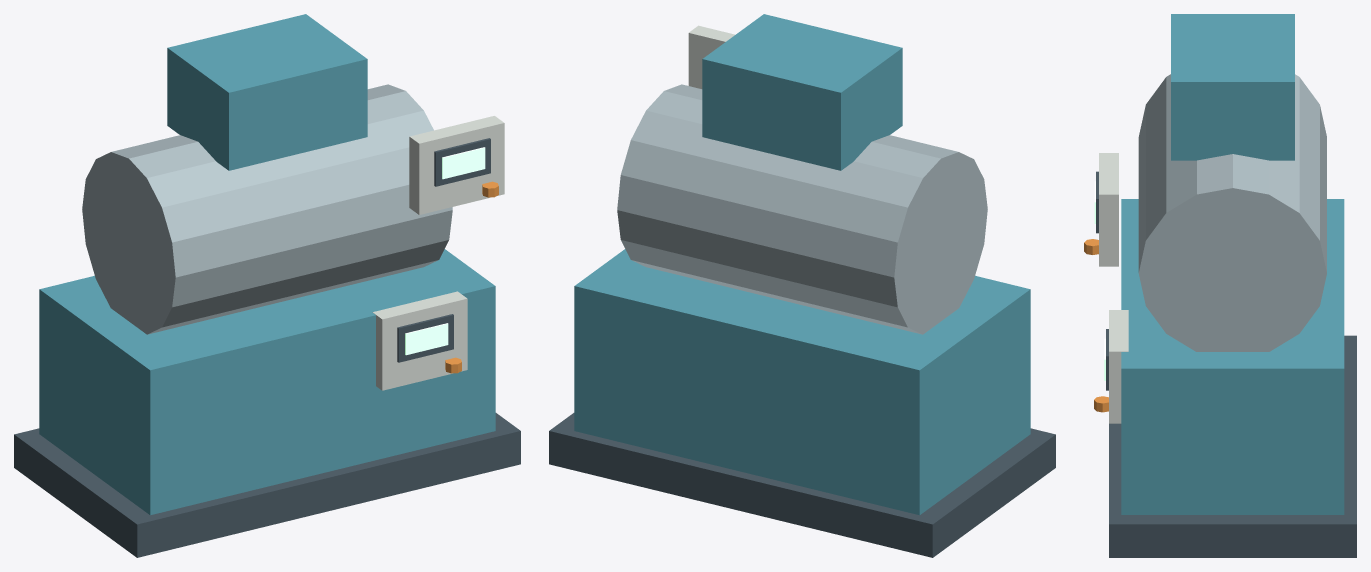
Rendered from air-compressor-skid.glb.
3 renders of one model, left to right at view 1: azimuth 30°, elevation 25°; view 2: azimuth 150°, elevation 25°; view 3: azimuth 270°, elevation 25°, orthographic.
Visible parts, largest first — view 1: blue, steel, dark, cream, light; view 2: blue, steel, dark, cream; view 3: blue, steel, dark, cream, orange.
Part boxes in pixels (x1,y1,x2,y2): blue: [39, 14, 495, 515]; steel: [82, 84, 452, 334]; dark: [14, 138, 520, 557]; cream: [372, 116, 504, 390]; light: [405, 147, 485, 355]; blue: [574, 14, 1030, 515]; steel: [617, 84, 987, 334]; dark: [549, 413, 1055, 557]; cream: [688, 25, 735, 88]; blue: [1121, 14, 1344, 514]; steel: [1138, 74, 1326, 351]; dark: [1096, 171, 1356, 557]; cream: [1099, 153, 1128, 423]; orange: [1084, 239, 1108, 412].
Bounding box in the file's own units: 1.8 × 1.85 × 1.1.
